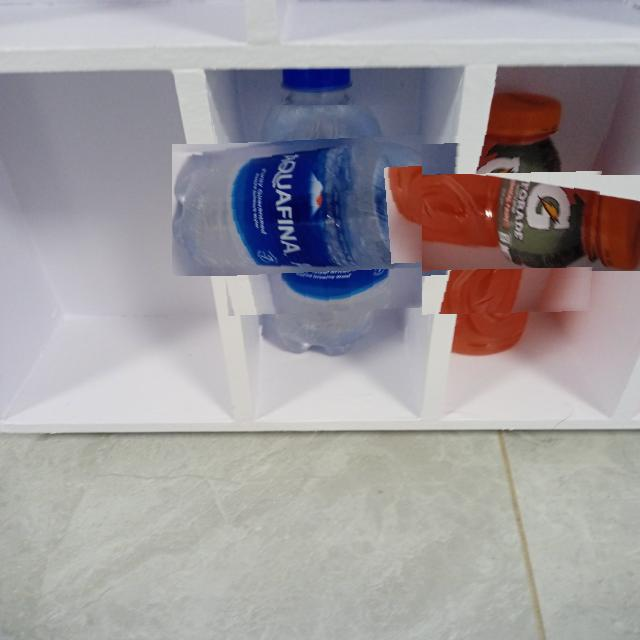Plastic: (211, 105, 423, 316), (422, 131, 606, 315)
